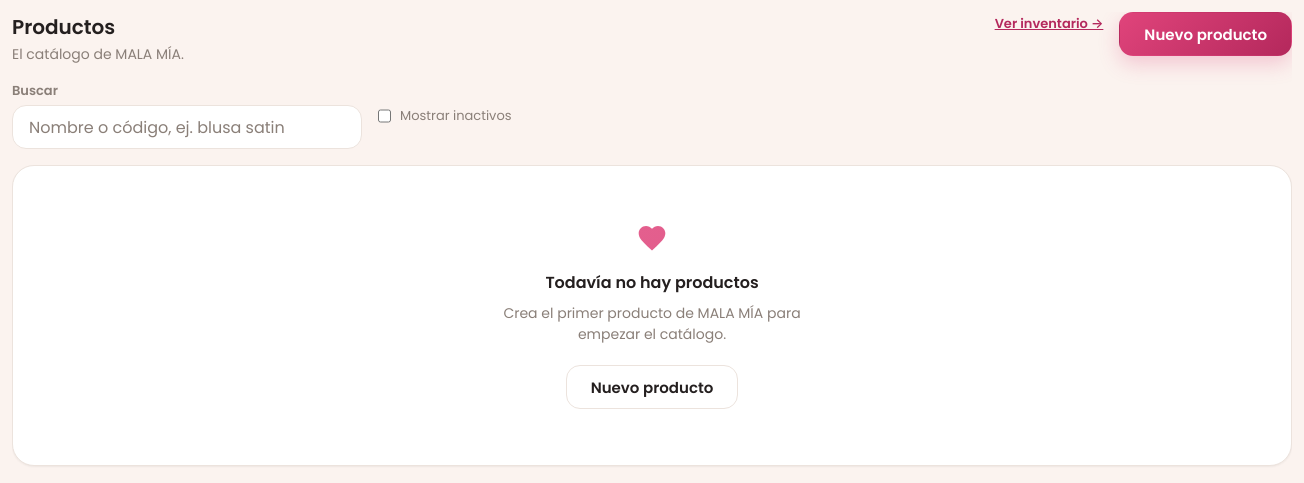
Test case: ProductsListPage › por defecto no pide productos inactivos, y "Mostrar inactivos" los incluye
Check: the heading "Todavía no hay productos" is shown, box [545,270,759,295]
What coordinates should you click on to do the following:
click the checkbox labelled "Mostrar inactivos"
I would click on:
 (384, 116)
Its box is [378,96,391,136].
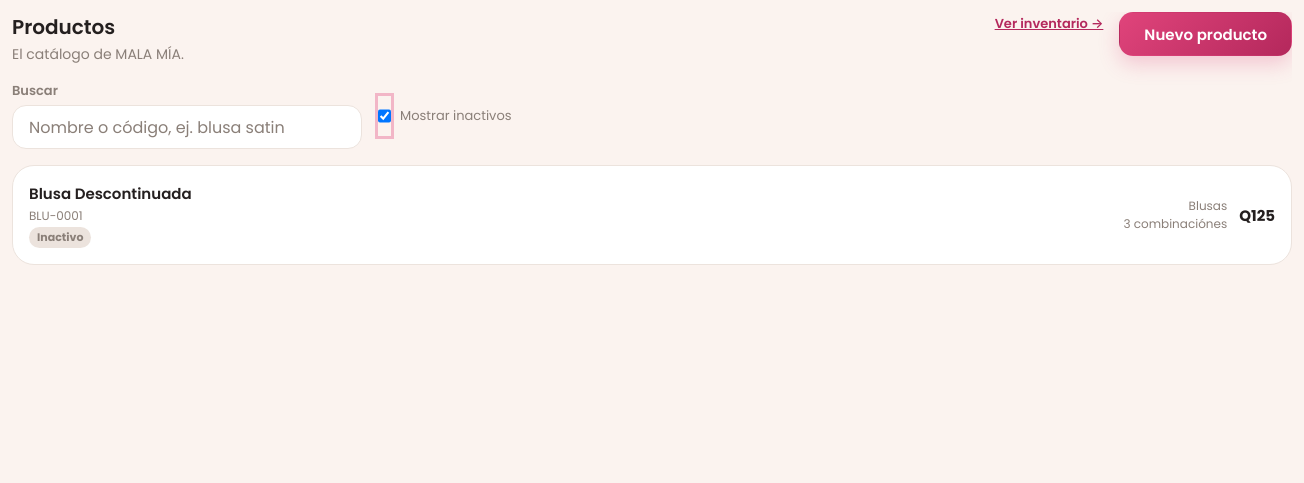
Check: the text "Blusa Descontinuada" is shown, box [29,183,192,204]
Check: the text "Inactivo" is shown, box [29,227,91,248]
